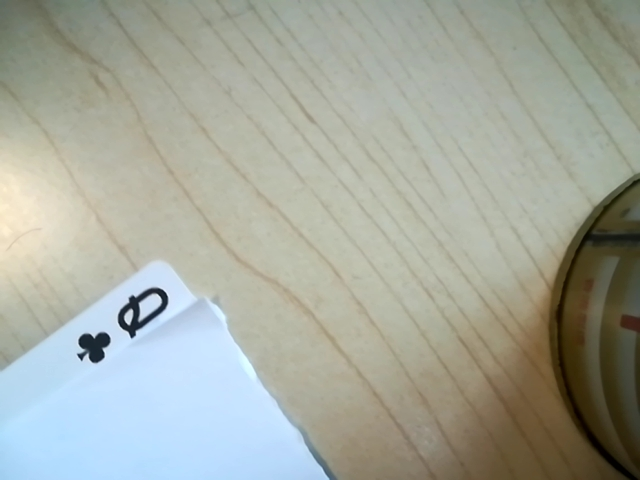mh q: (66, 279, 183, 368)
